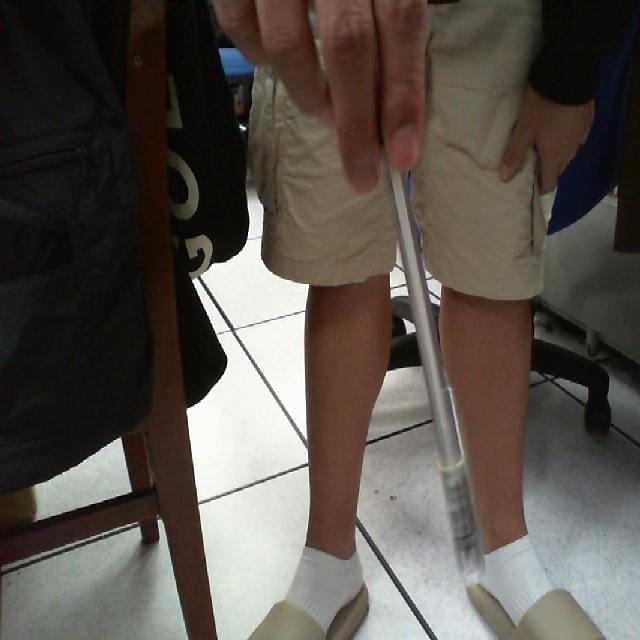Pen: (360, 116, 500, 603)
